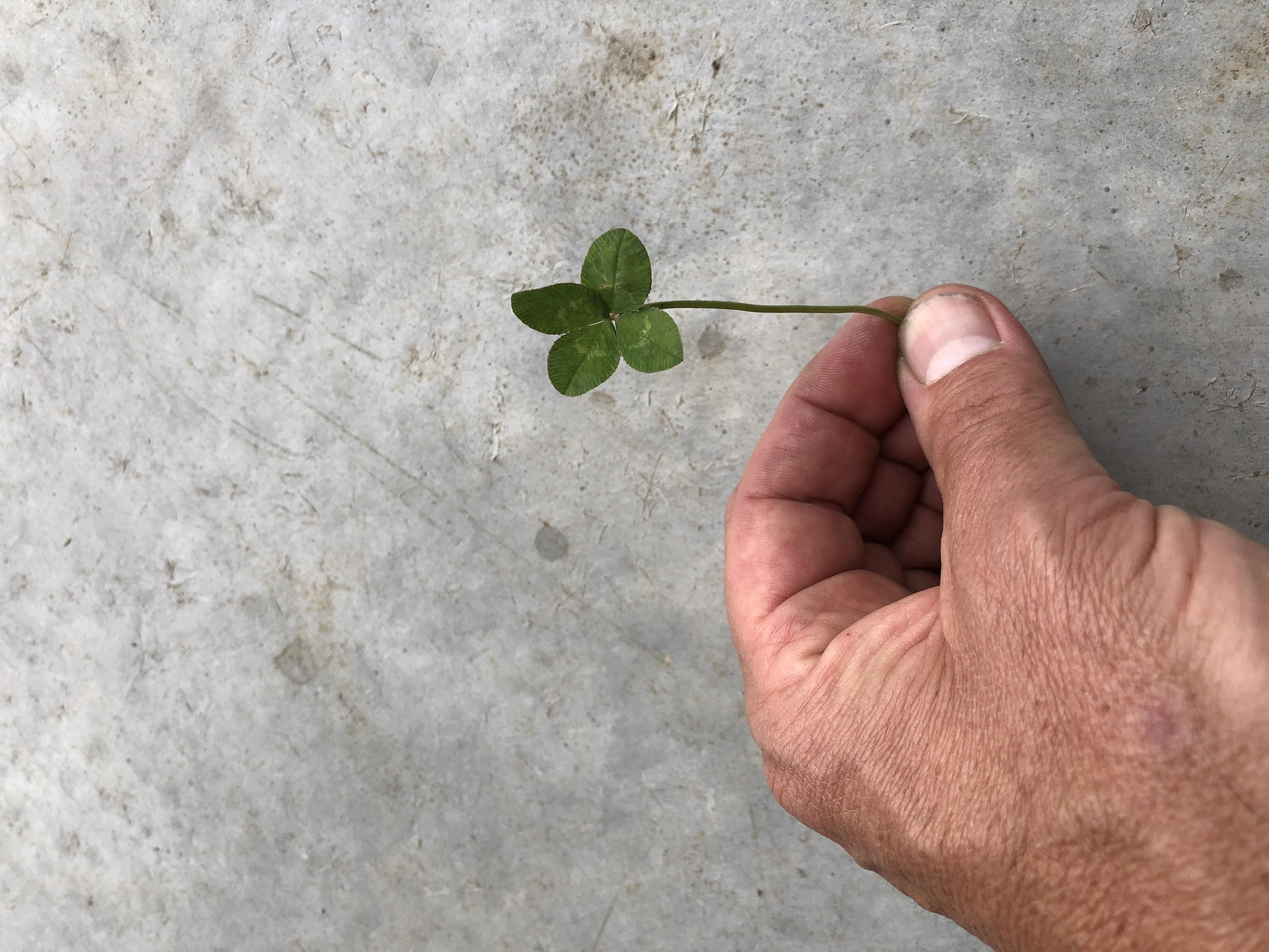4-Leaf-Clovers: (737, 380, 968, 516)
